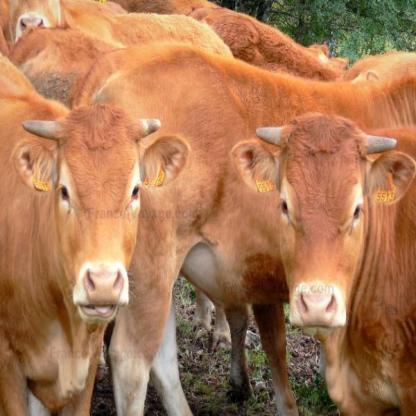cow: (71, 47, 416, 416), (0, 49, 191, 416), (228, 113, 416, 416)
